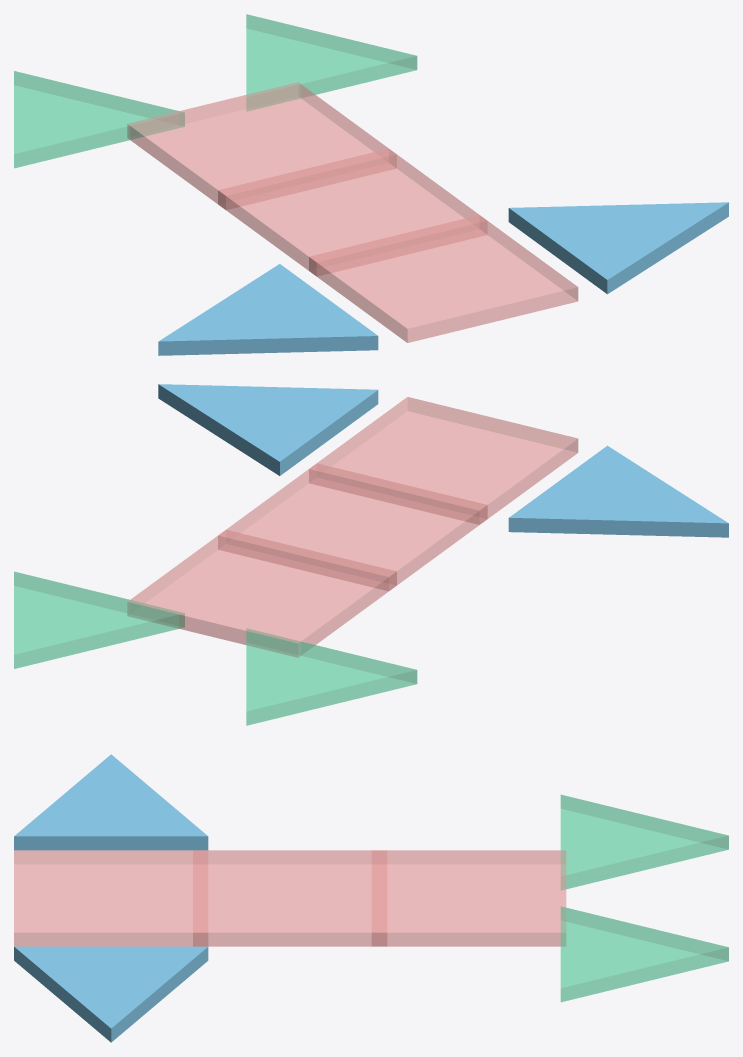
The model's file is torre_step6.glb.
3 views of the same model, one above another, from view 1: azimuth 30°, elevation 25°; view 2: azimuth 150°, elevation 25°; view 3: azimuth 270°, elevation 25° (orthographic).
Parts seen in each view (by area): view 1: quadrato_grande, quadrato_grande.002, quadrato_grande.001, triangolo_isoscele_grande.001, triangolo_isoscele_grande, triangolo_equilatero.001, triangolo_equilatero; view 2: quadrato_grande, quadrato_grande.002, quadrato_grande.001, triangolo_isoscele_grande, triangolo_isoscele_grande.001, triangolo_equilatero, triangolo_equilatero.001; view 3: quadrato_grande.002, quadrato_grande, quadrato_grande.001, triangolo_isoscele_grande, triangolo_isoscele_grande.001, triangolo_equilatero.001, triangolo_equilatero.
Boxes of the visible parts, x1,y1,x2,y2 form: quadrato_grande: [309, 215, 578, 342]; quadrato_grande.002: [127, 82, 396, 209]; quadrato_grande.001: [218, 148, 487, 276]; triangolo_isoscele_grande.001: [508, 202, 728, 294]; triangolo_isoscele_grande: [158, 264, 378, 355]; triangolo_equilatero.001: [246, 14, 417, 111]; triangolo_equilatero: [14, 71, 184, 168]; quadrato_grande: [309, 397, 578, 524]; quadrato_grande.002: [127, 530, 396, 657]; quadrato_grande.001: [218, 463, 487, 590]; triangolo_isoscele_grande: [508, 445, 728, 537]; triangolo_isoscele_grande.001: [158, 384, 378, 475]; triangolo_equilatero: [246, 628, 417, 725]; triangolo_equilatero.001: [14, 571, 184, 668]; quadrato_grande.002: [371, 850, 566, 946]; quadrato_grande: [14, 850, 208, 946]; quadrato_grande.001: [193, 850, 387, 946]; triangolo_isoscele_grande: [14, 754, 208, 850]; triangolo_isoscele_grande.001: [14, 946, 208, 1042]; triangolo_equilatero.001: [560, 906, 728, 1002]; triangolo_equilatero: [560, 794, 728, 890].
Size of the model in its own units: 3.34 by 0.08 by 3.68.
